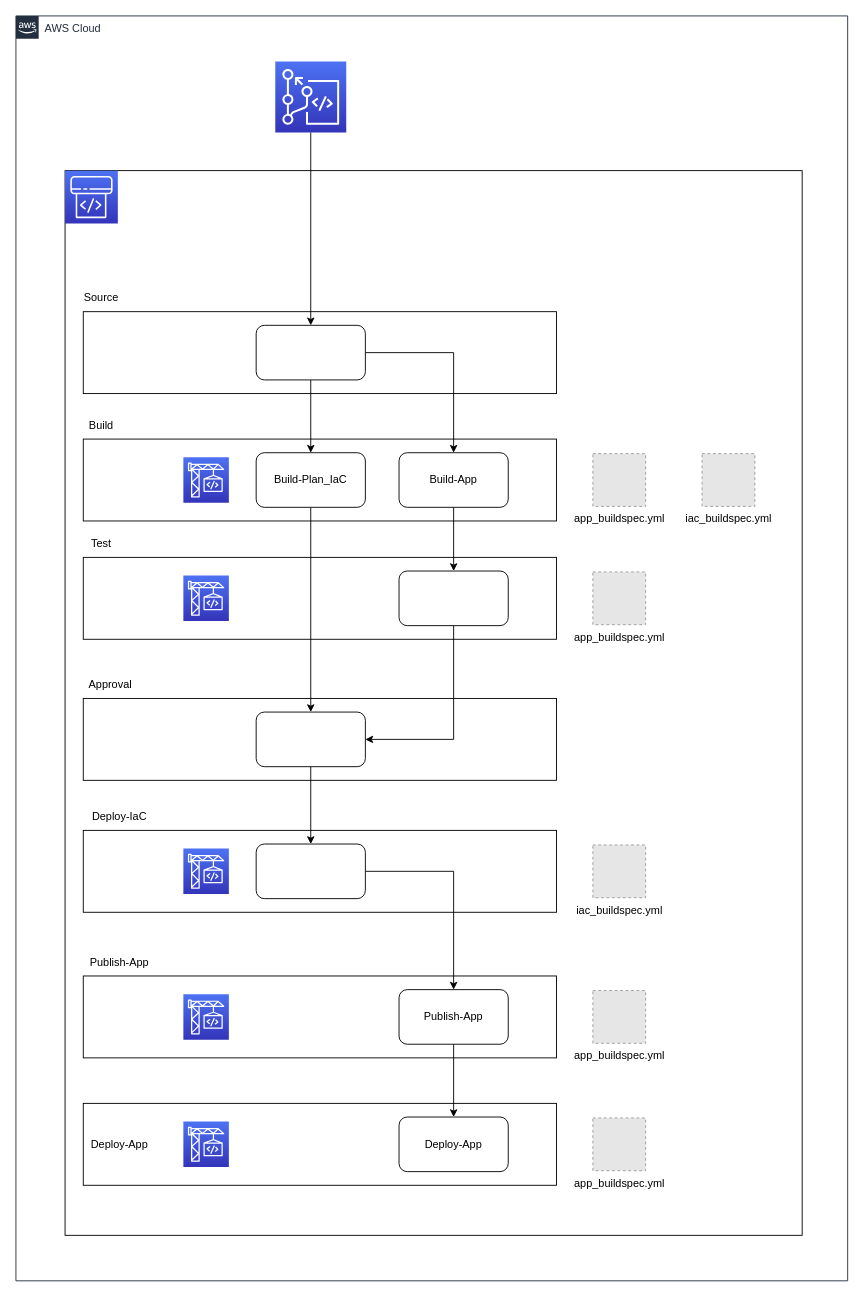
Image size: 864x1297. Some labels were removed from this diagram. Grey dashed boxes stand in for pictures. Each missing label, with the centre of its shape:
App repository: the point at 310,96
Approve: the point at 310,739
Deploy-Apply_IaC: the point at 310,871
Pipeline: the point at 91,196
Source (IaC & app): the point at 310,352
Test-App: the point at 453,598
